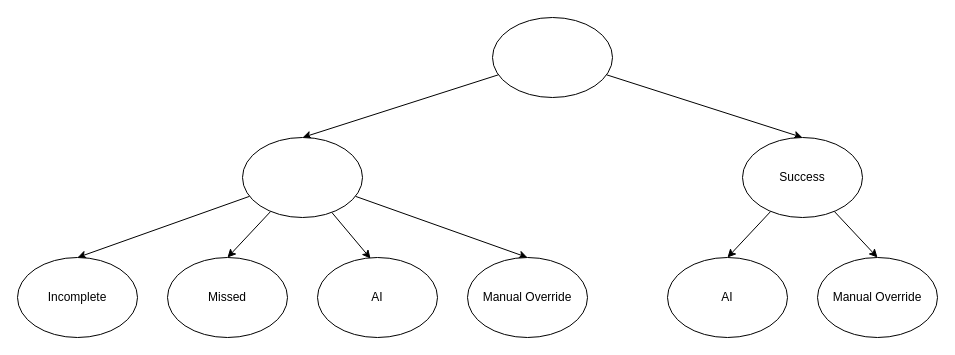
The diagram is 955 pixels wide and 355 high, and some of its shapes have lost their labels. Each missing label, with the centre of its shape:
"Checkin" belongs at [552,57].
"Failed" belongs at [302,177].
